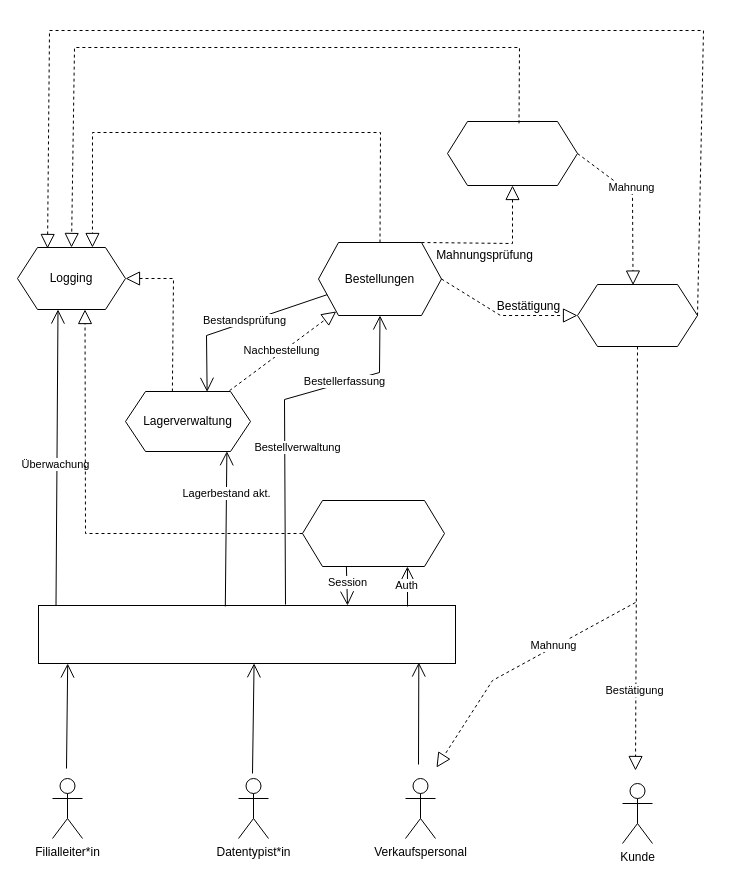
This 735x892 diagram has some shape labels left out. The shapes that lost their labels are listed below. From the top down, each one's centre as x and y in pixels, then its label:
At (x=512, y=153): "Kundenverwaltung".
At (x=637, y=315): "Benachrichtigung".
At (x=373, y=533): "Benutzerverwaltung".
At (x=247, y=634): "API-Gateway".
